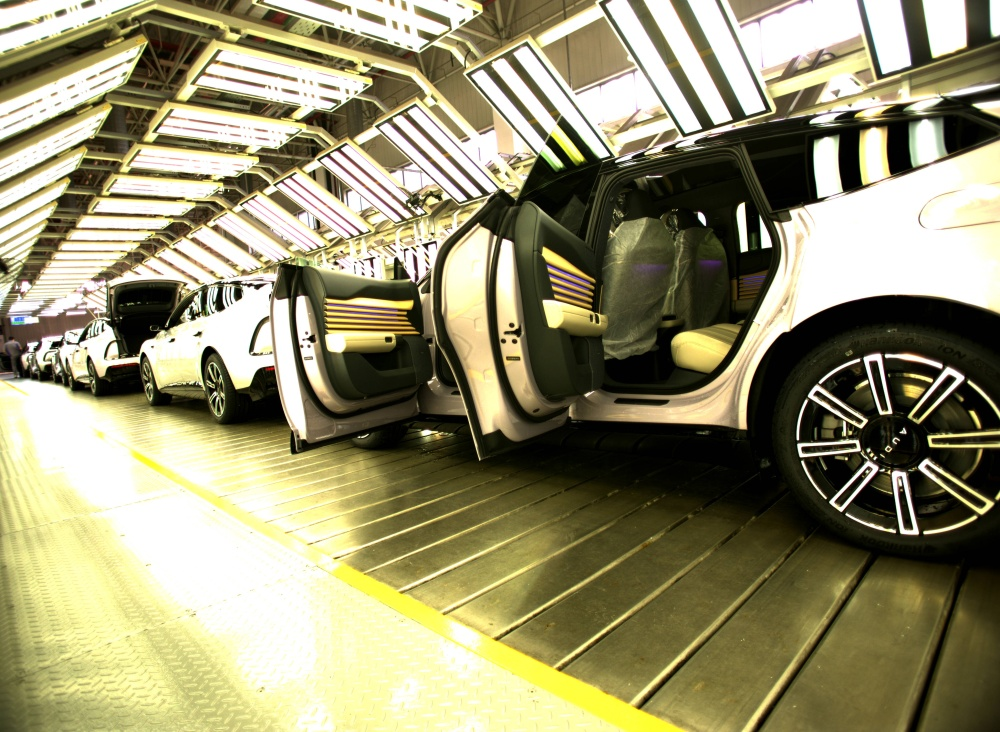armrest_color: (540, 297, 611, 339), (324, 333, 403, 359)
panel_color: (316, 289, 420, 333), (540, 243, 599, 310)
